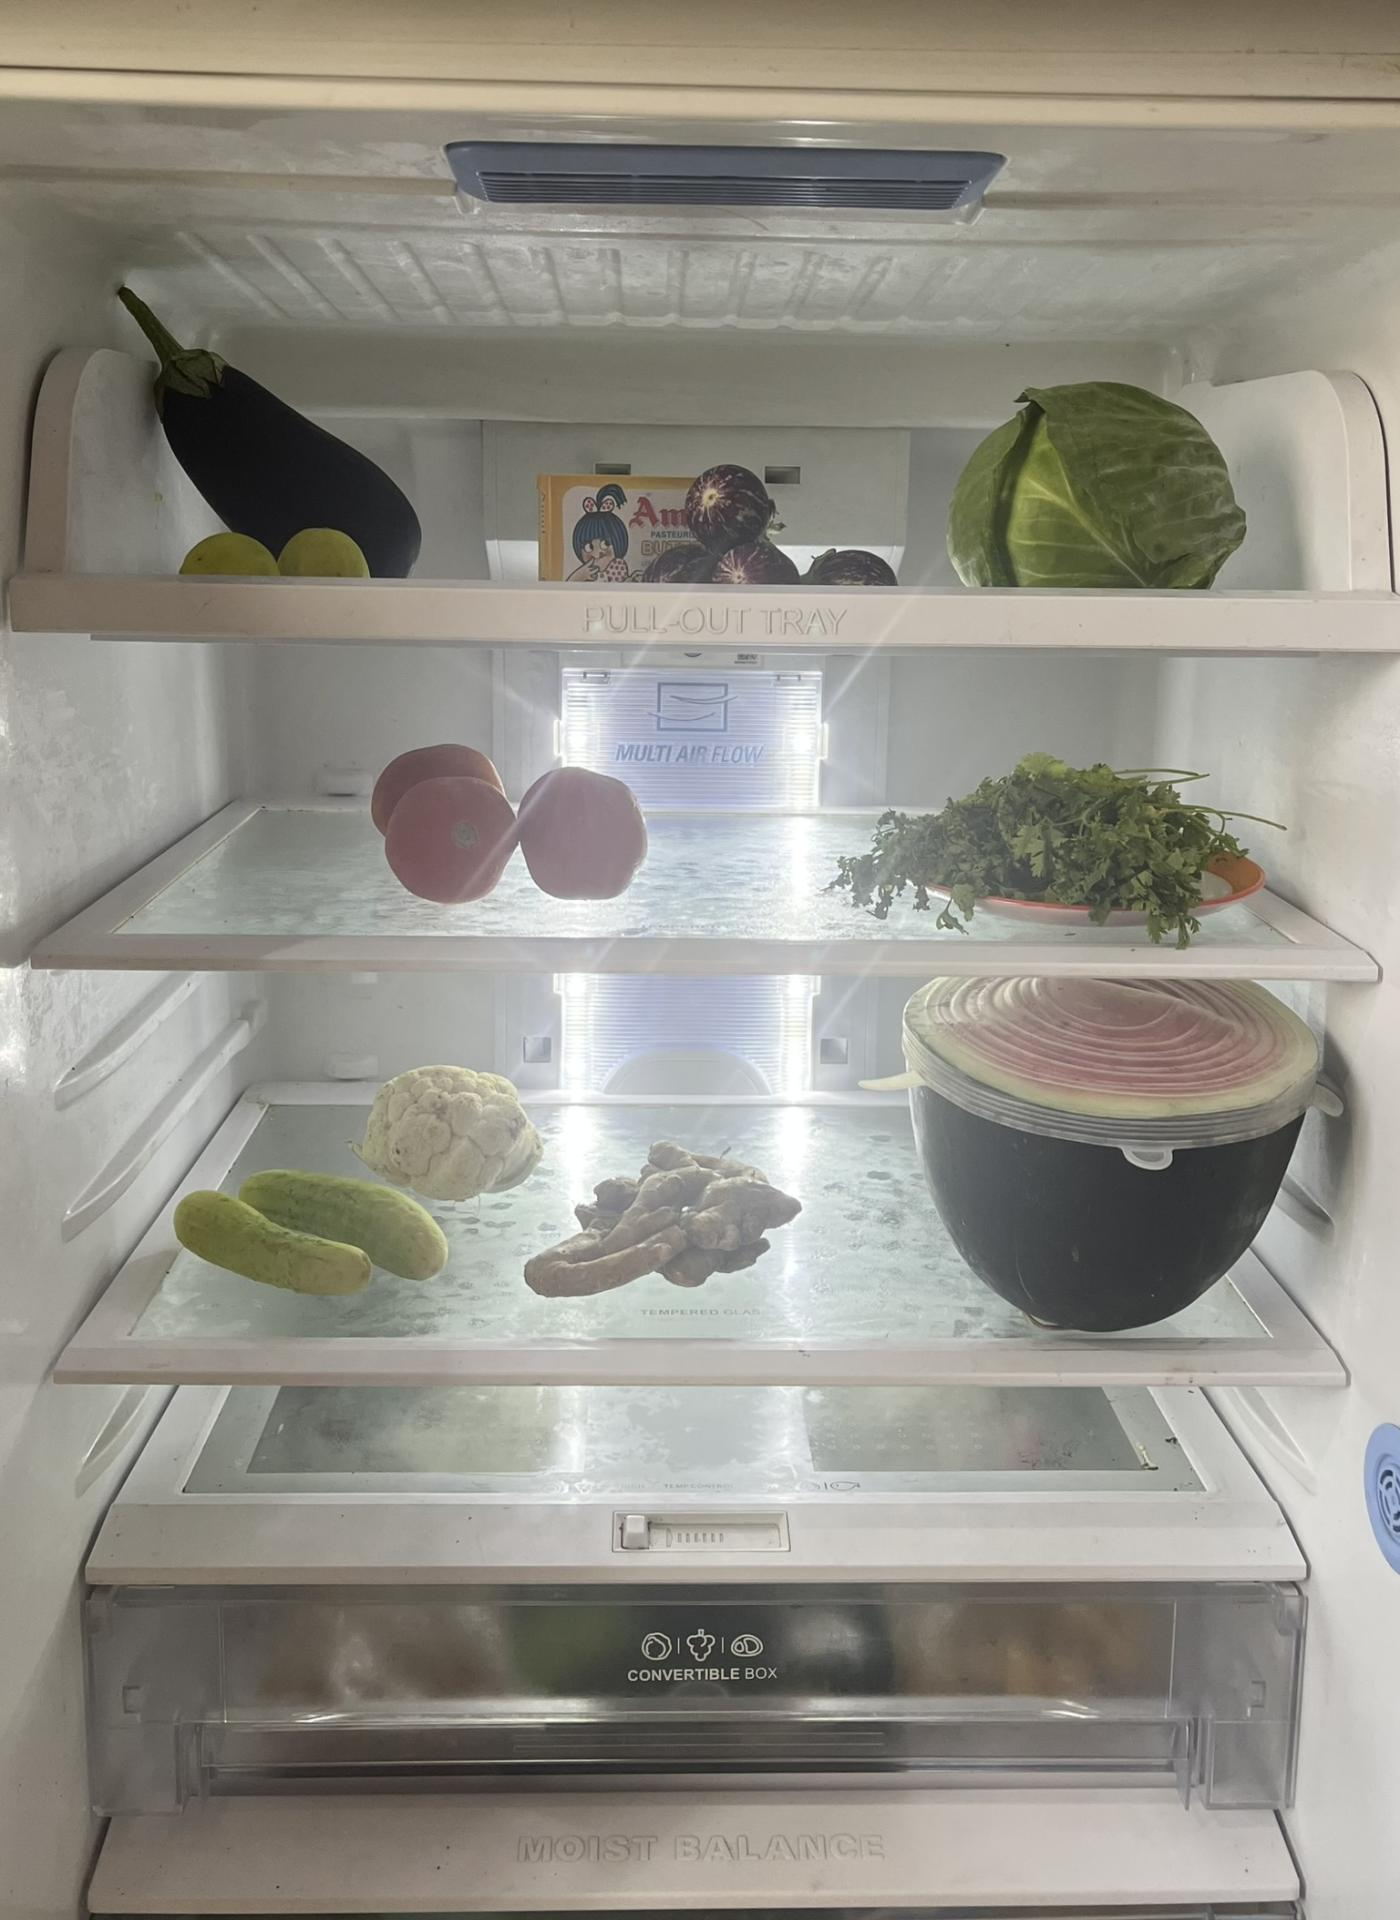brinjal: (107, 279, 432, 574), (635, 456, 920, 583)
butter: (541, 479, 720, 590)
cabbage: (950, 374, 1251, 586)
cauliflower: (356, 1052, 547, 1200)
coriander: (842, 766, 1266, 921)
cucumber: (170, 1155, 459, 1295)
ginger: (522, 1142, 795, 1309)
lemon: (186, 516, 373, 580)
tomato: (373, 733, 652, 902)
watermelon: (902, 985, 1340, 1337)
